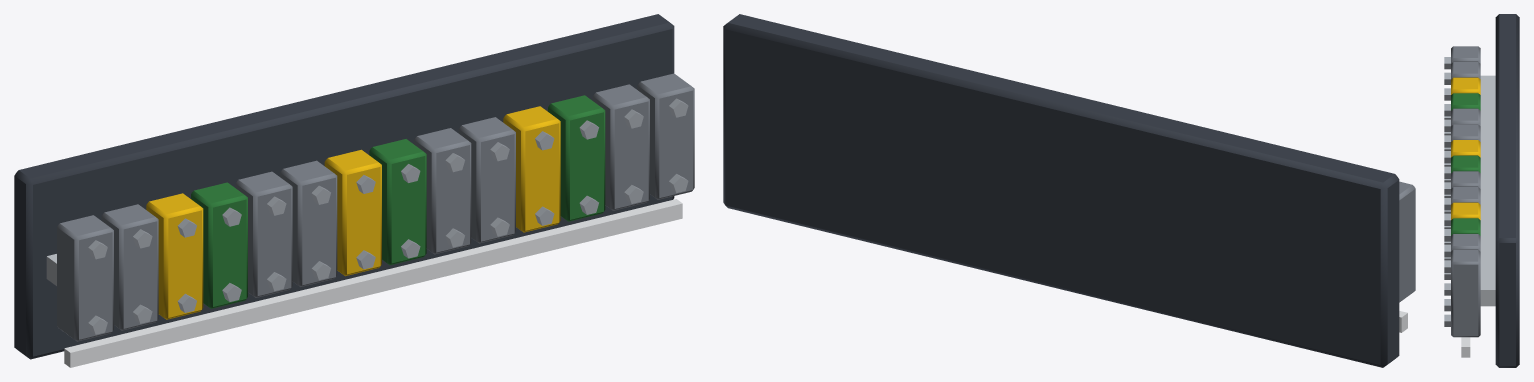
The model's file is junction_terminal_block.glb.
The picture shows the model from 3 angles, left to right: view 1: azimuth 30°, elevation 25°; view 2: azimuth 150°, elevation 25°; view 3: azimuth 270°, elevation 25°; orthographic projection. The views are drawn at different scales.
Parts seen in each view (by area): view 1: junction_terminal_block; view 2: junction_terminal_block; view 3: junction_terminal_block.
Boxes of the visible parts, bbox=[...] form: junction_terminal_block: bbox=[14, 14, 694, 367]; junction_terminal_block: bbox=[723, 14, 1415, 367]; junction_terminal_block: bbox=[1444, 14, 1519, 367].
Bounding box in the file's own units: 0.9 × 0.24 × 0.126.
